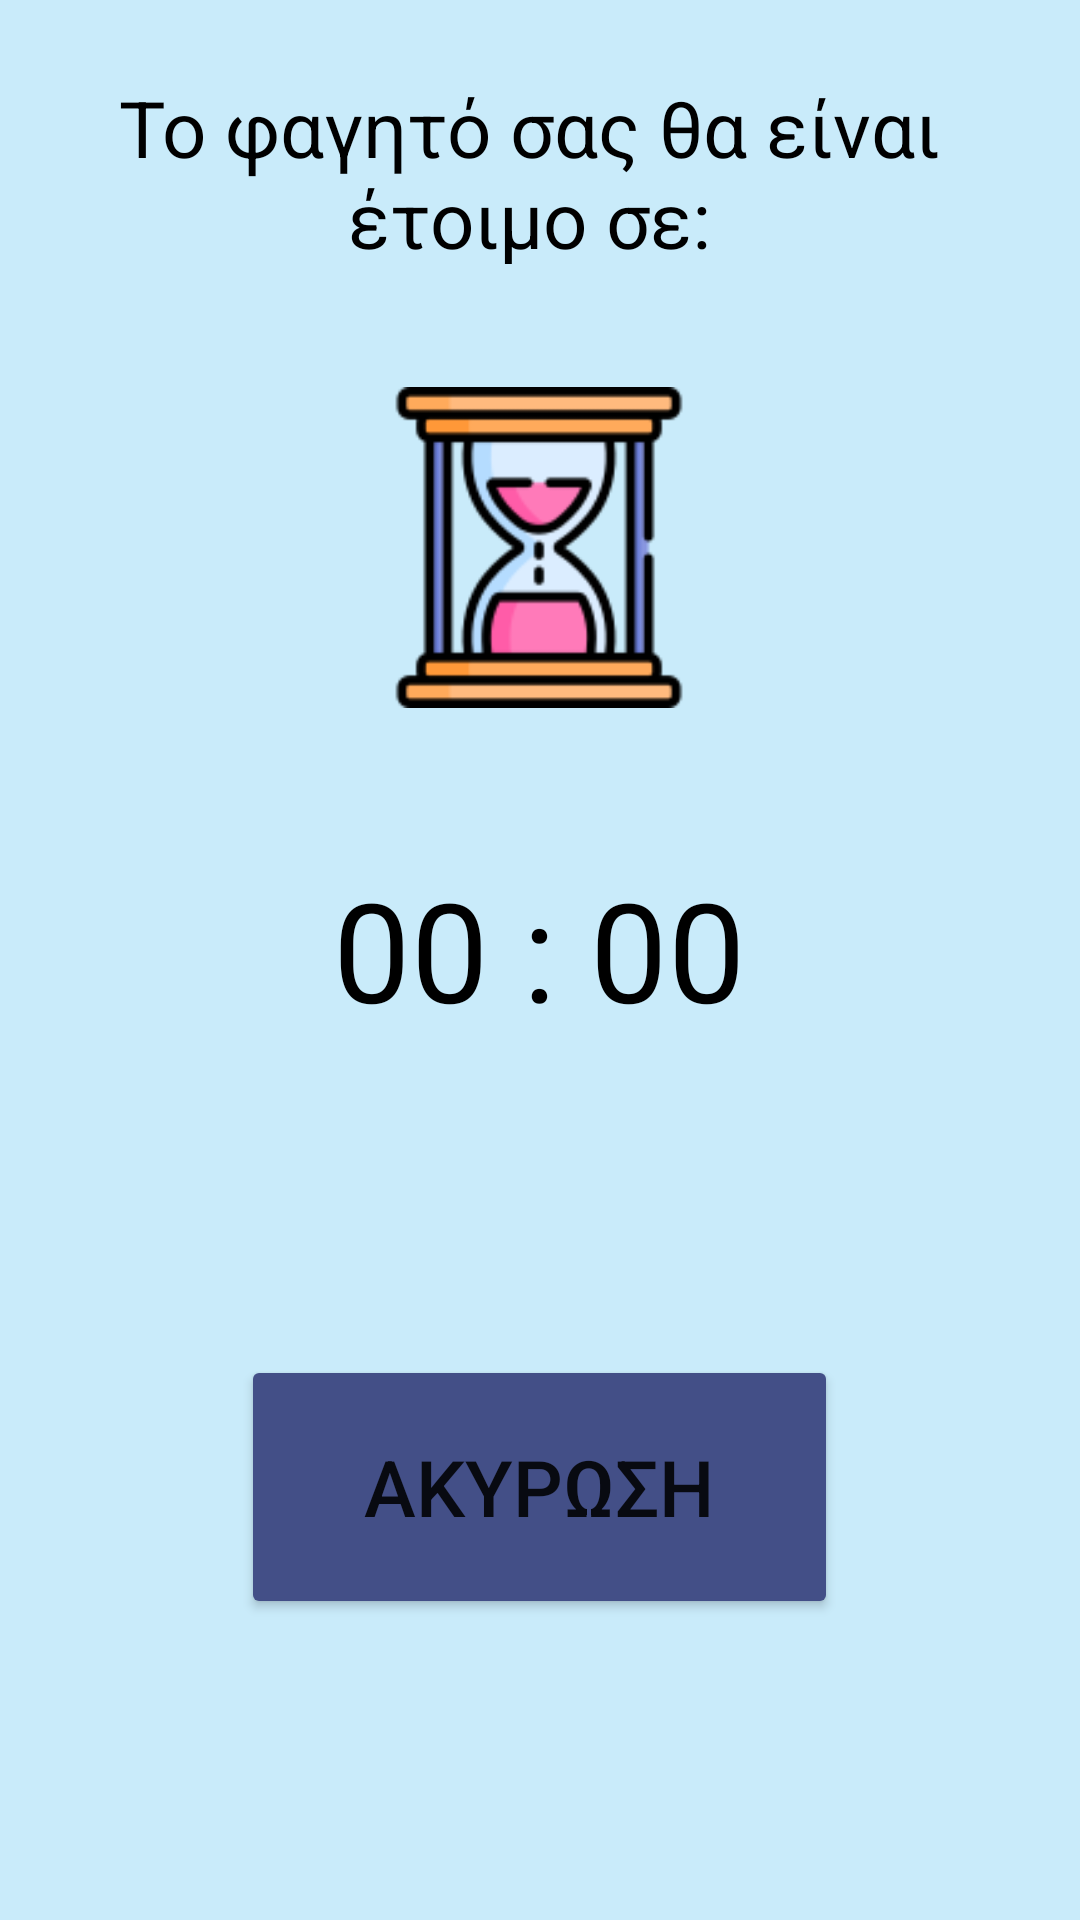

Named icons in this screenshot (1080px×1920px) and their centers, [x,y]:
hourglass: [539,547]
